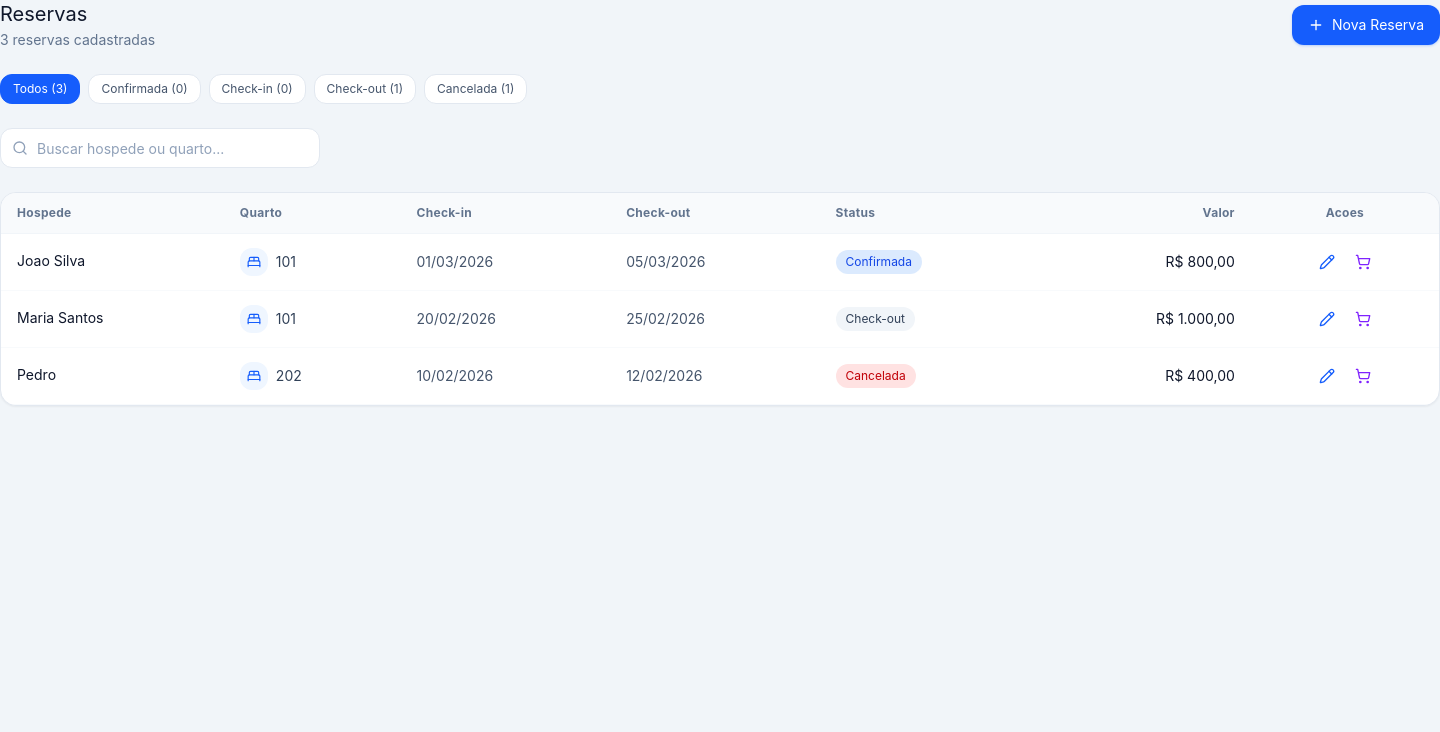
it: Reservas/Vendas (expanded) › opens new reserva modal on click
Click the button "Nova Reserva". click: (1366, 25)
box: top-left (1292, 5), bottom-right (1439, 45)
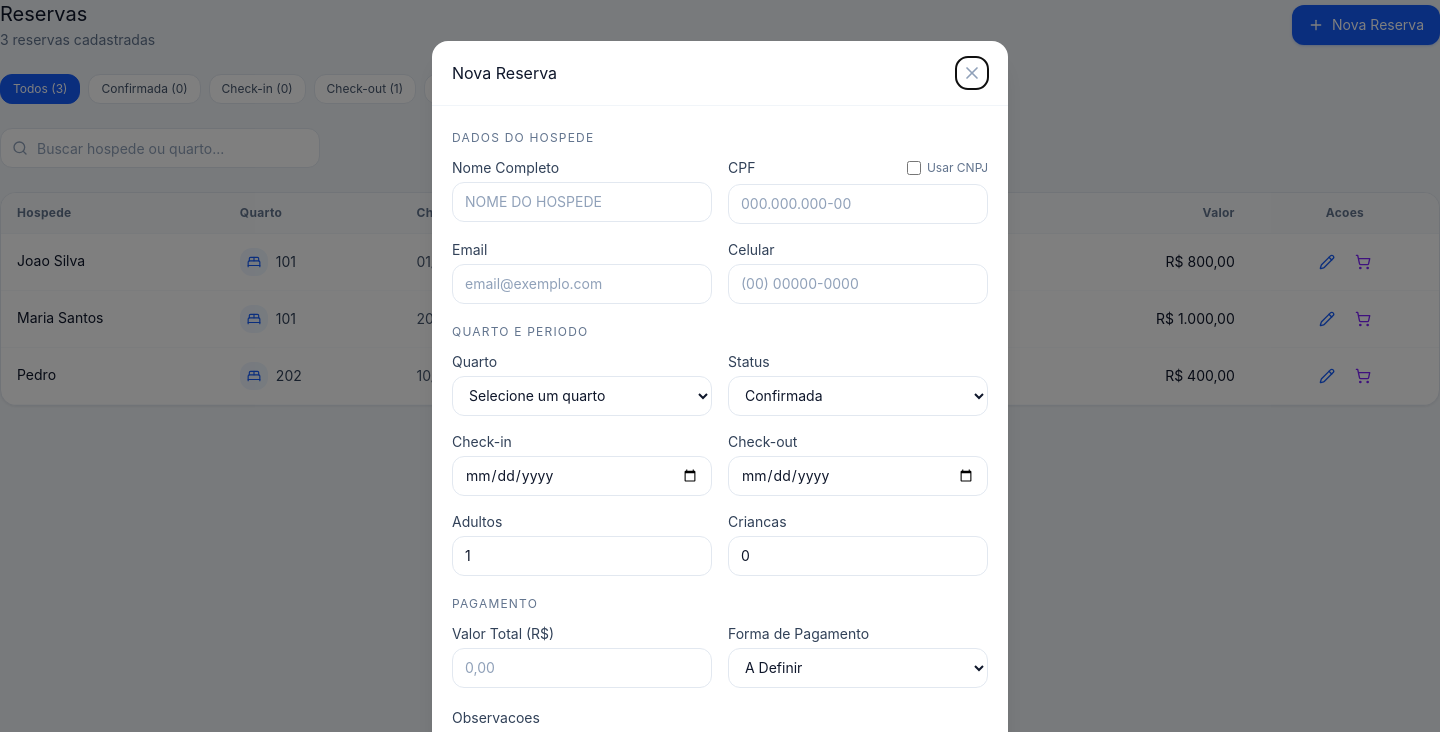
Expected: the text "Dados do Hospede" is shown, top-left (452, 130), bottom-right (594, 144)
